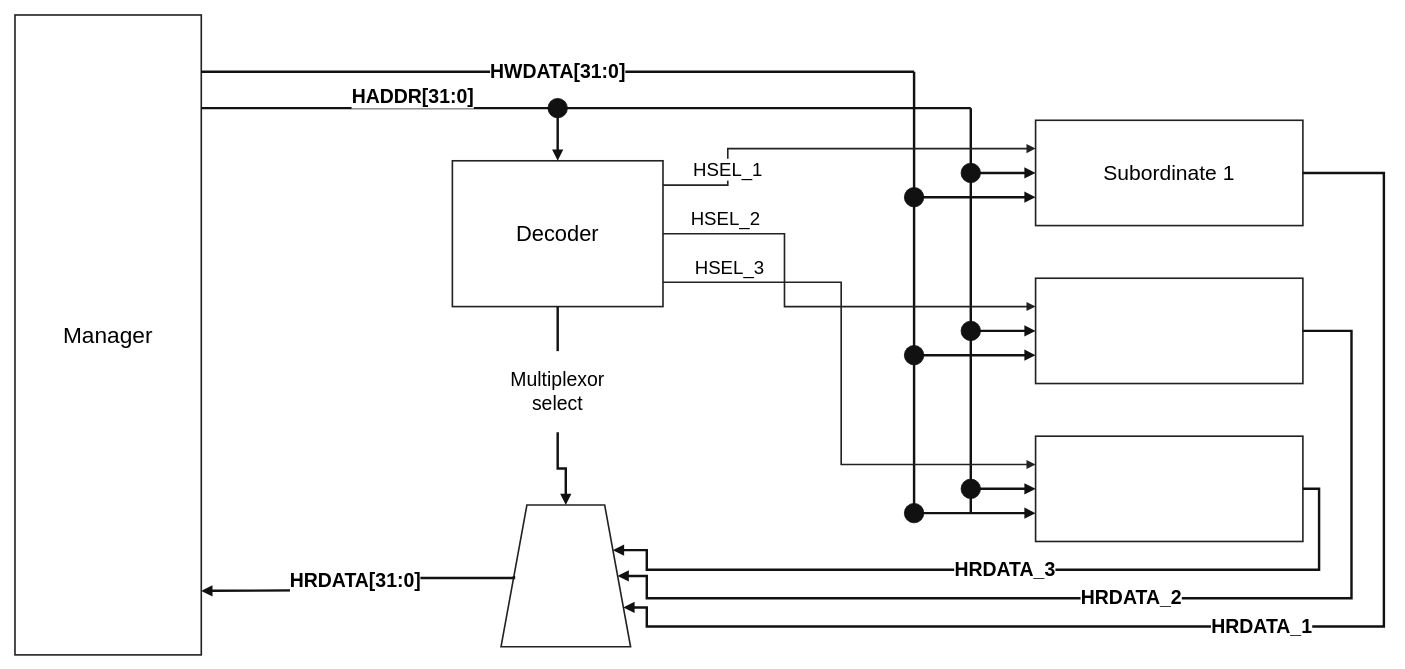
Some shapes in this 1405 by 669 pixel diagram are drawn without their labels. The centre of each missing label's shape, as x and y in pixels:
Subordinate 2: point 1168,330
Subordinate 3: point 1168,488
